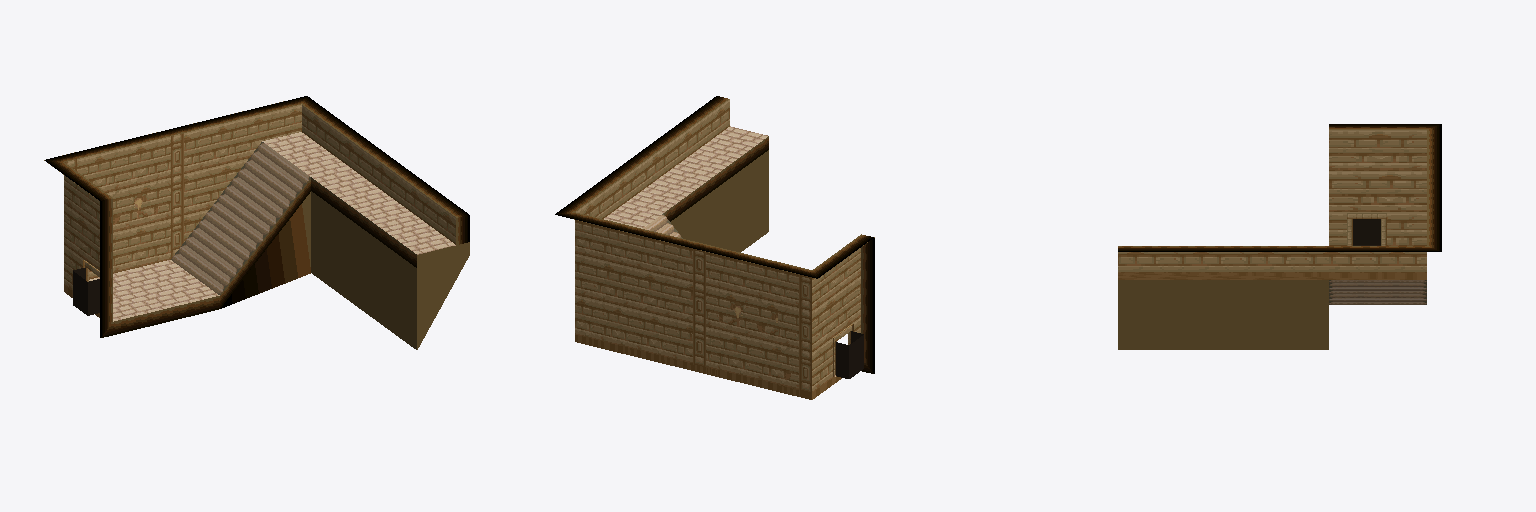
3 views of the same model, side by side, from view 1: azimuth 30°, elevation 25°; view 2: azimuth 150°, elevation 25°; view 3: azimuth 270°, elevation 25° (orthographic).
Visible parts, largest first — view 1: polygon2, polygon3, polygon0, polygon1, polygon5, polygon4, polygon6; view 2: polygon3, polygon2, polygon0, polygon5, polygon4, polygon6; view 3: polygon2, polygon3, polygon1, polygon6, polygon7.
Part boxes in pixels (x1,y1,x2,y2): polygon2: (44, 96, 469, 349); polygon3: (64, 104, 455, 317); polygon0: (89, 132, 455, 321); polygon1: (171, 142, 310, 294); polygon5: (89, 181, 157, 279); polygon4: (64, 133, 183, 258); polygon6: (73, 268, 99, 315); polygon3: (575, 99, 860, 399); polygon2: (555, 96, 874, 373); polygon0: (604, 126, 835, 376); polygon5: (719, 289, 798, 389); polygon4: (693, 249, 811, 399); polygon6: (836, 331, 863, 378); polygon2: (1118, 124, 1441, 349); polygon3: (1118, 130, 1426, 279); polygon1: (1329, 280, 1426, 304); polygon6: (1353, 219, 1380, 245); polygon7: (1347, 213, 1386, 245).
Bounding box in the file's own units: 10.11 × 5 × 10.75.
8 materials, 8 textured.